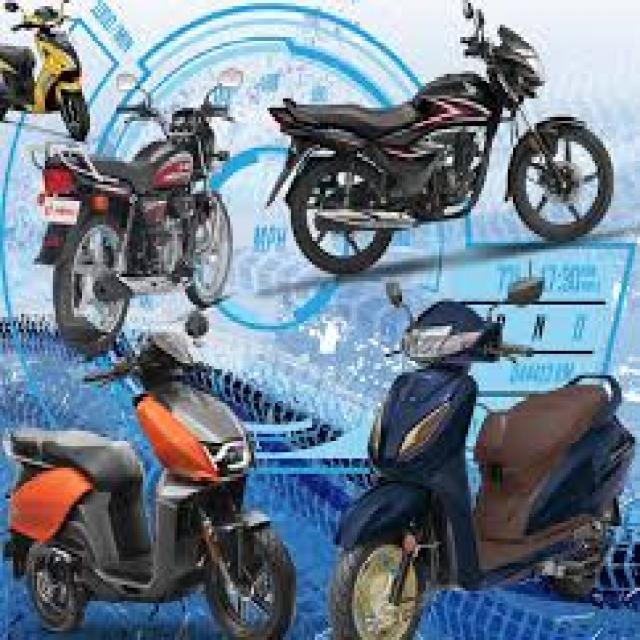Bike: (327, 275, 638, 640), (0, 307, 296, 640), (265, 0, 617, 276), (28, 66, 244, 358), (0, 0, 90, 142)
